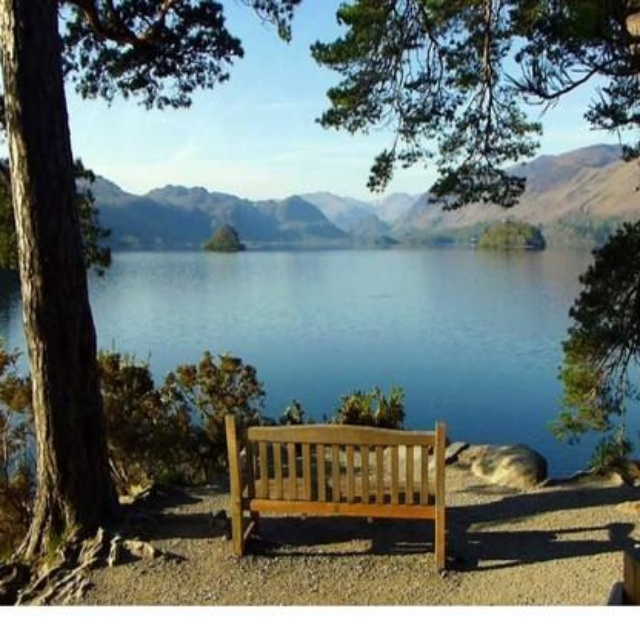obstacle: (189, 397, 494, 578)
